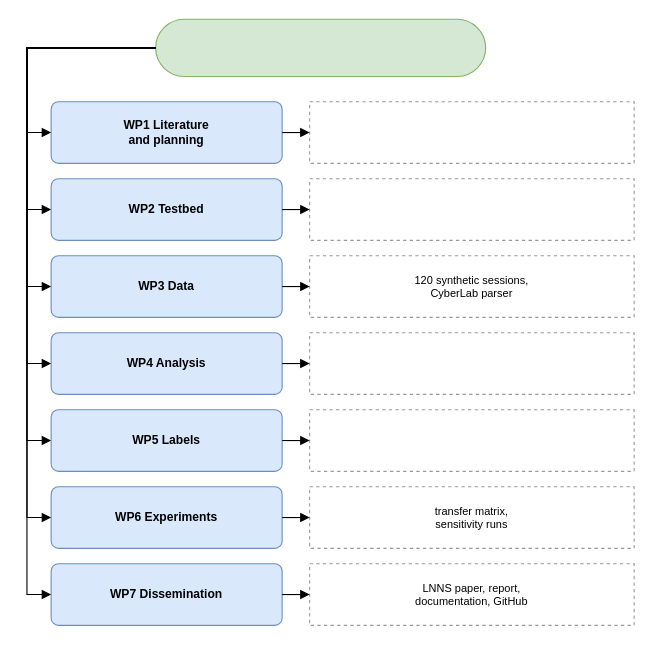
The diagram is 653 pixels wide and 645 high, and some of its shapes have lost their labels. Each missing label, with the box of its shape:
Cowrie configuration, harness, recovery logic: (309, 178, 634, 240)
LLM red-team vs real honeypot traffic project: (155, 18, 486, 76)
normalization, templates, label-free comparison: (309, 332, 634, 394)
rubric, dual-LLM annotation, adjudication, author check: (309, 409, 634, 471)
survey, project plan, research questions: (309, 101, 634, 163)
